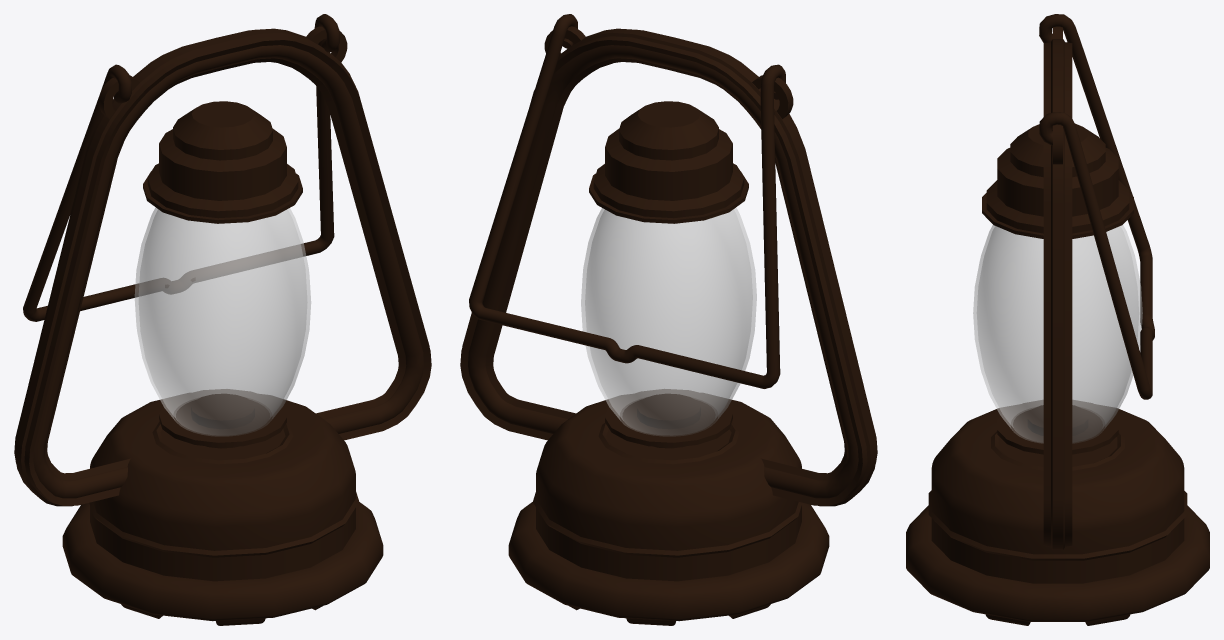
The model's file is Lamp.fbx.
3 renders of one model, left to right at view 1: azimuth 30°, elevation 25°; view 2: azimuth 150°, elevation 25°; view 3: azimuth 270°, elevation 25°, orthographic. The views are drawn at different scales.
Visible parts, largest first — view 1: Lamp, Line001; view 2: Lamp, Line001; view 3: Lamp, Line001.
Boxes of the visible parts, x1,y1,x2,y2 form: Lamp: [14, 26, 431, 625]; Line001: [23, 14, 339, 321]; Lamp: [460, 26, 877, 625]; Line001: [469, 14, 785, 388]; Lamp: [906, 26, 1209, 625]; Line001: [1039, 14, 1154, 399].
Size of the model in its own units: 3.55 by 2.36 by 4.39.
